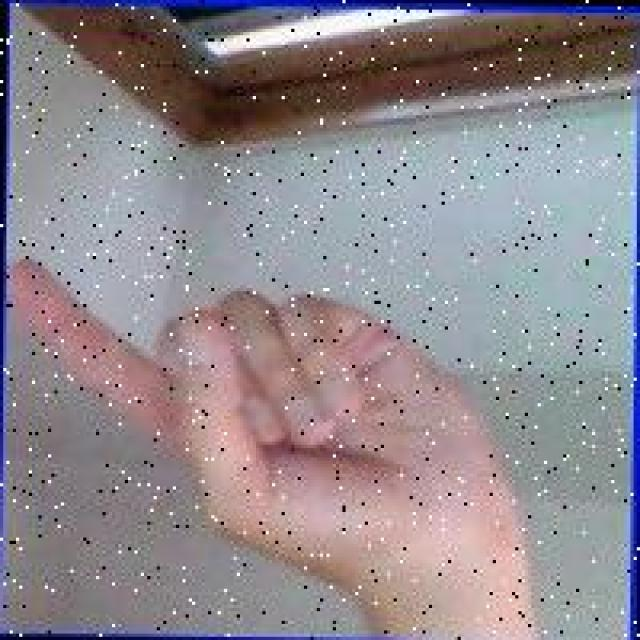Z: (10, 254, 499, 584)
